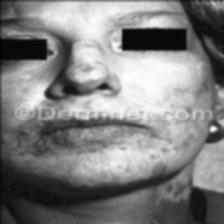Unclassified: (63, 147, 164, 176), (170, 120, 191, 172), (78, 42, 100, 72), (20, 85, 46, 98), (166, 98, 202, 107), (168, 172, 178, 202)
